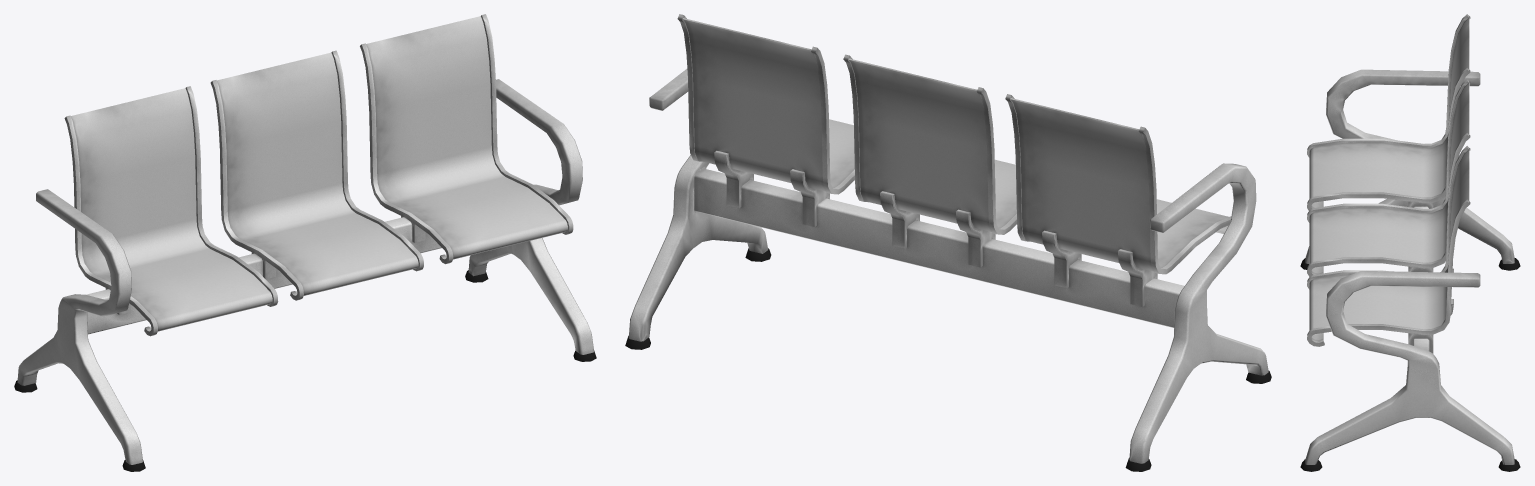
Rendered from WaitingBenchChair.fbx.
3 views of the same model, side by side, from view 1: azimuth 30°, elevation 25°; view 2: azimuth 150°, elevation 25°; view 3: azimuth 270°, elevation 25° (orthographic). The views are drawn at different scales.
Parts seen in each view (by area): view 1: WaitingBenchChair; view 2: WaitingBenchChair; view 3: WaitingBenchChair.
Boxes of the visible parts, x1,y1,x2,y2 form: WaitingBenchChair: [14, 14, 596, 471]; WaitingBenchChair: [625, 14, 1271, 471]; WaitingBenchChair: [1300, 14, 1520, 471].
Size of the model in its own units: 150 by 86.1 by 66.13.
